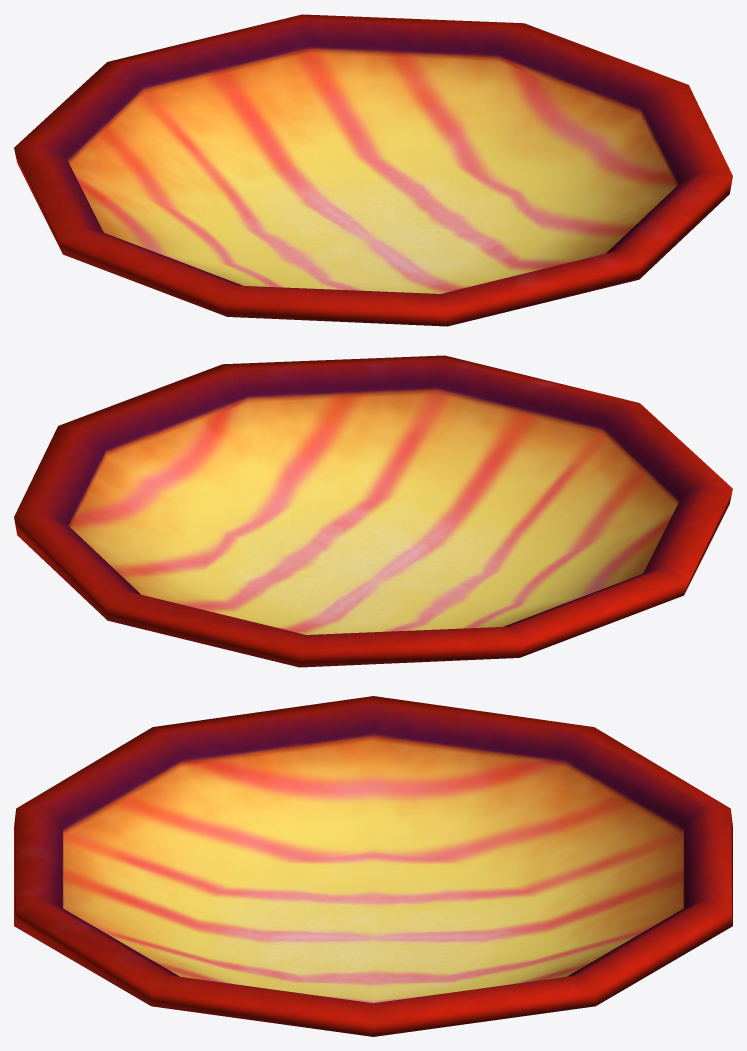
File: Saucer_MARCH_HARE.dae
3 views of the same model, one above another, from view 1: azimuth 30°, elevation 25°; view 2: azimuth 150°, elevation 25°; view 3: azimuth 270°, elevation 25° (orthographic). The views are drawn at different scales.
Parts seen in each view (by area): view 1: mesh0; view 2: mesh0; view 3: mesh0.
Part boxes in pixels (x1=…): mesh0: x1=14, y1=14, x2=732, y2=326; mesh0: x1=14, y1=355, x2=732, y2=667; mesh0: x1=14, y1=696, x2=732, y2=1036.
Bounding box in the file's own units: 0.3021 × 0.047 × 0.2819.
